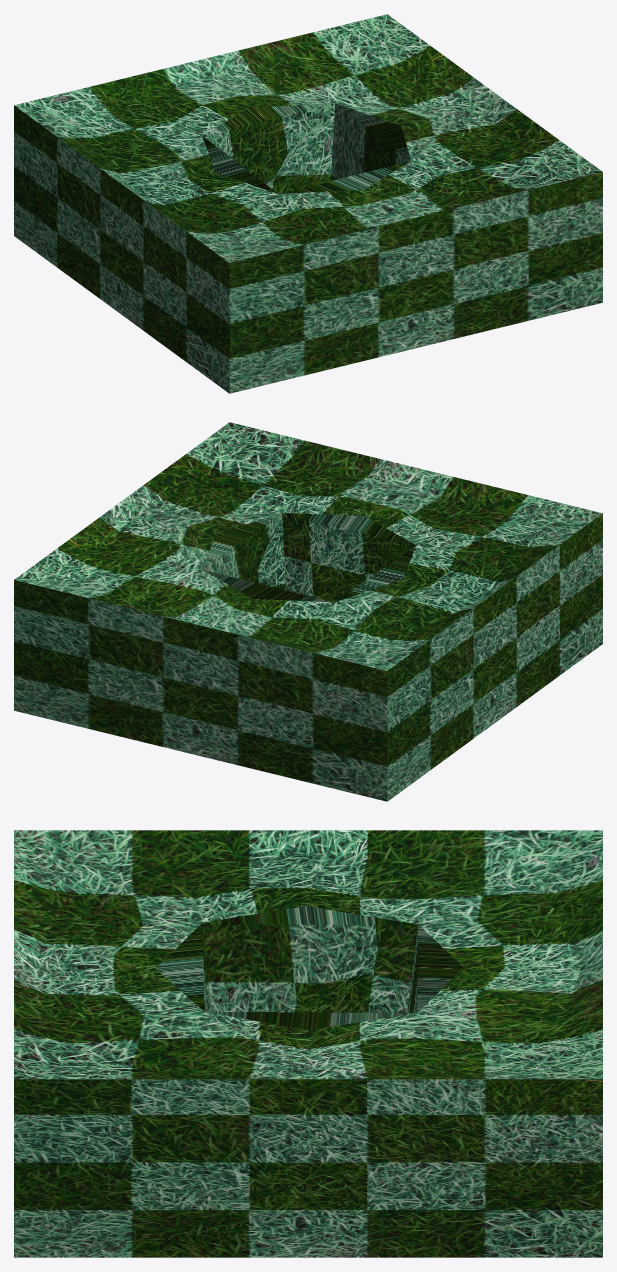
The model's file is Floor7HoleCircle.fbx.
3 views of the same model, one above another, from view 1: azimuth 30°, elevation 25°; view 2: azimuth 150°, elevation 25°; view 3: azimuth 270°, elevation 25° (orthographic). The views are drawn at different scales.
Visible parts, largest first — view 1: Floor.007EdgeCircle.001; view 2: Floor.007EdgeCircle.001; view 3: Floor.007EdgeCircle.001.
Boxes of the visible parts, x1,y1,x2,y2 form: Floor.007EdgeCircle.001: (14, 14, 602, 393); Floor.007EdgeCircle.001: (14, 422, 602, 801); Floor.007EdgeCircle.001: (14, 830, 602, 1257).
Size of the model in its own units: 150 by 50.16 by 150.
